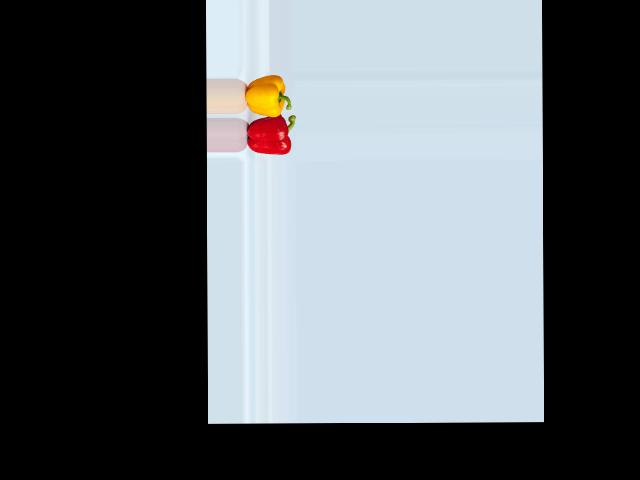bell_pepper: (241, 113, 294, 158)
